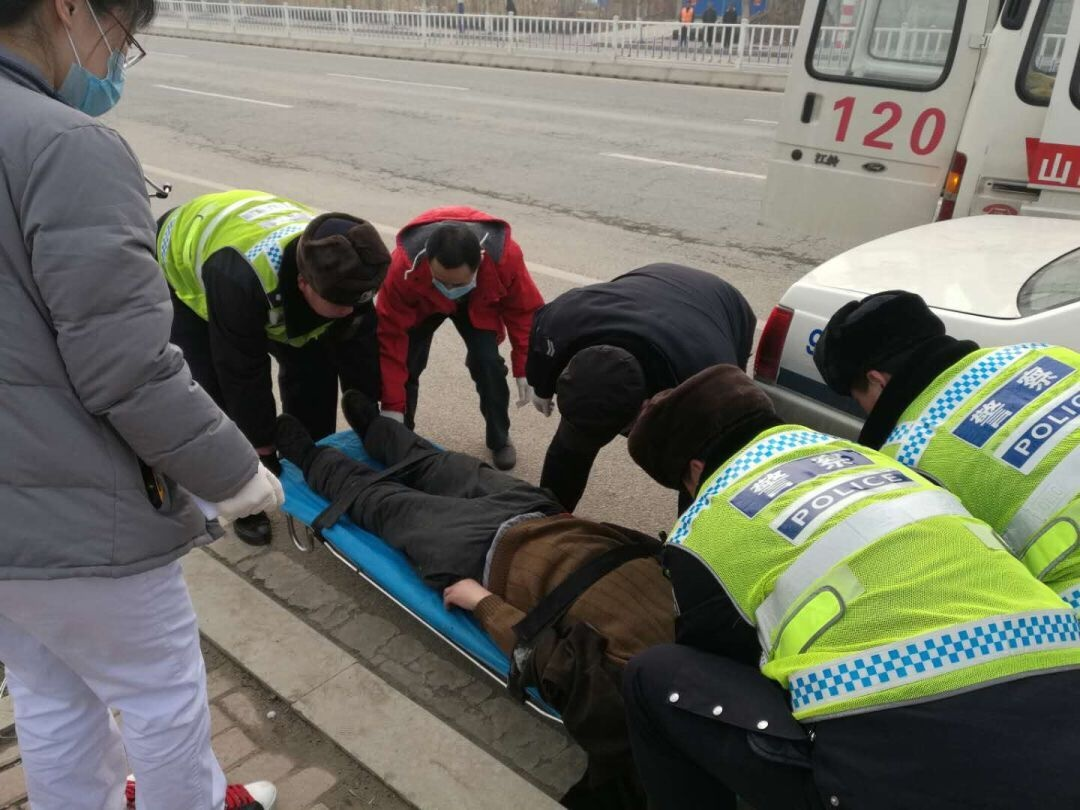falling: (269, 371, 707, 710)
